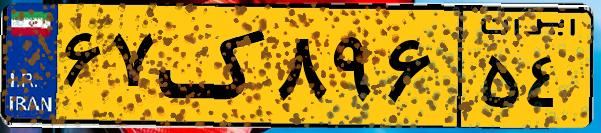4: (525, 38, 570, 115)
5: (475, 38, 525, 113)
6: (385, 28, 445, 110), (57, 26, 110, 100)
7: (110, 28, 158, 98)
8: (270, 28, 330, 110)
9: (330, 28, 385, 110)
ک: (158, 12, 270, 120)
